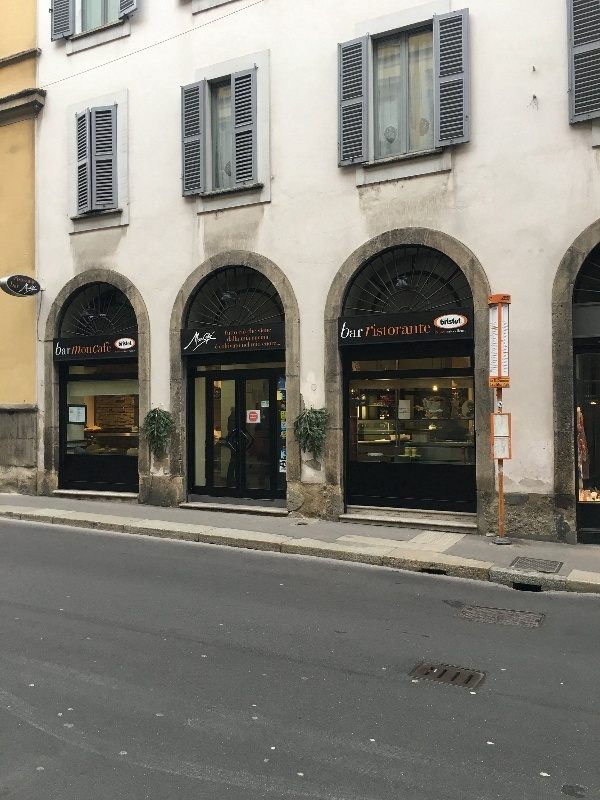text: (196, 331, 208, 358), (369, 321, 384, 338), (385, 321, 400, 338), (401, 321, 416, 338), (417, 321, 431, 338), (209, 331, 217, 358), (353, 322, 364, 340), (97, 341, 111, 354), (343, 322, 352, 340), (17, 276, 32, 285), (242, 341, 256, 349), (257, 327, 272, 334), (241, 335, 256, 342), (225, 343, 240, 350), (449, 318, 462, 326), (81, 346, 92, 355), (57, 342, 64, 356), (227, 336, 240, 343), (26, 283, 32, 298), (65, 342, 71, 356), (226, 330, 240, 336), (262, 339, 272, 347), (257, 334, 268, 341), (33, 283, 38, 298), (273, 339, 282, 347), (450, 329, 464, 334), (435, 331, 448, 336), (440, 318, 448, 326), (73, 346, 80, 355), (116, 349, 128, 354), (497, 383, 512, 387), (248, 328, 256, 335), (498, 379, 512, 383), (119, 341, 128, 347), (70, 409, 80, 414), (11, 281, 16, 289), (241, 328, 246, 336), (216, 344, 224, 349), (93, 341, 96, 354), (504, 297, 512, 301), (129, 349, 135, 354), (251, 342, 256, 348), (401, 409, 416, 411), (502, 342, 512, 345), (252, 334, 256, 341), (220, 343, 224, 350), (33, 276, 36, 285), (503, 330, 512, 333), (503, 334, 512, 337), (403, 411, 416, 413), (17, 281, 20, 289), (257, 342, 261, 348), (280, 463, 288, 466), (490, 379, 496, 383), (490, 383, 496, 387), (284, 431, 288, 436), (401, 412, 411, 414), (502, 321, 512, 323), (502, 324, 512, 326), (502, 327, 512, 329), (502, 336, 512, 338), (502, 340, 512, 342), (502, 359, 512, 361), (129, 341, 132, 347), (282, 416, 288, 419), (401, 408, 410, 410), (503, 306, 512, 308), (490, 322, 496, 325), (503, 323, 512, 325), (490, 334, 496, 337), (490, 363, 496, 366), (503, 331, 512, 333), (503, 349, 512, 351), (503, 354, 512, 356), (367, 321, 368, 338), (504, 326, 512, 328), (492, 308, 496, 312), (504, 329, 512, 331), (504, 333, 512, 335), (504, 343, 512, 345), (504, 346, 512, 348), (504, 365, 512, 367), (504, 366, 512, 368), (504, 368, 512, 370), (504, 369, 512, 371), (443, 318, 448, 321), (491, 344, 496, 347), (491, 368, 496, 371), (491, 370, 496, 373), (250, 414, 256, 416), (250, 417, 256, 419), (282, 426, 288, 428), (492, 384, 496, 387), (492, 305, 496, 308), (490, 324, 496, 326), (490, 326, 496, 328), (492, 329, 496, 332), (492, 332, 496, 335), (490, 360, 496, 362), (490, 365, 496, 367), (490, 367, 496, 369), (77, 408, 80, 412), (77, 411, 80, 415), (78, 415, 80, 421), (465, 329, 467, 334), (491, 336, 496, 338), (491, 338, 496, 340), (491, 357, 496, 359), (491, 358, 496, 360), (502, 355, 512, 356), (502, 358, 512, 359), (502, 361, 512, 362), (502, 362, 512, 363), (15, 276, 16, 285), (239, 328, 240, 336), (494, 379, 496, 383), (492, 343, 496, 345), (492, 346, 496, 348), (497, 308, 499, 312), (504, 338, 512, 339), (504, 339, 512, 340), (504, 342, 512, 343), (504, 345, 512, 346), (504, 348, 512, 349), (504, 357, 512, 358), (504, 364, 512, 365), (504, 371, 512, 372), (81, 411, 83, 415), (497, 334, 499, 337), (493, 339, 496, 341), (493, 348, 496, 350), (493, 349, 496, 351), (493, 353, 496, 355), (493, 355, 496, 357), (81, 415, 82, 421), (491, 342, 496, 343), (491, 362, 496, 363), (497, 346, 499, 348), (492, 352, 496, 353), (497, 367, 499, 369), (497, 305, 498, 308), (497, 329, 498, 332), (497, 363, 498, 366), (497, 370, 498, 373), (399, 408, 400, 410), (399, 412, 400, 414), (497, 338, 498, 340), (497, 339, 498, 341), (497, 343, 498, 345), (497, 353, 498, 355), (497, 357, 498, 359), (497, 358, 498, 360), (497, 360, 498, 362), (497, 365, 498, 367)
